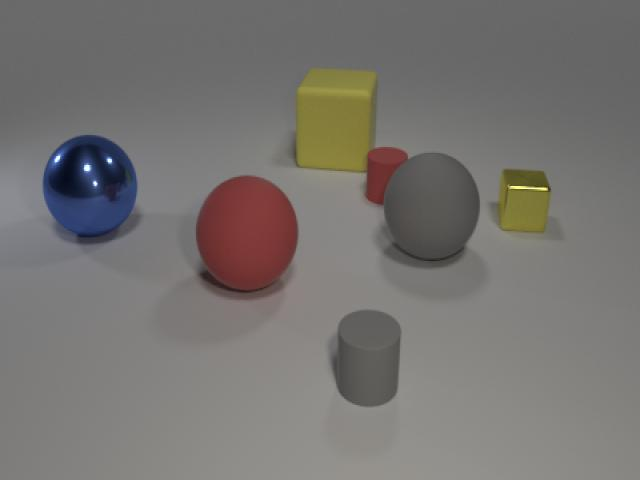cylinder: (331, 306, 407, 408), (364, 141, 409, 208)
round ball: (192, 171, 303, 298), (378, 146, 480, 261), (39, 129, 140, 245)
